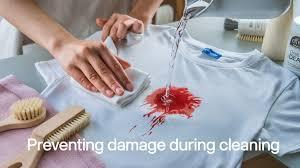blood: (146, 87, 200, 118)
